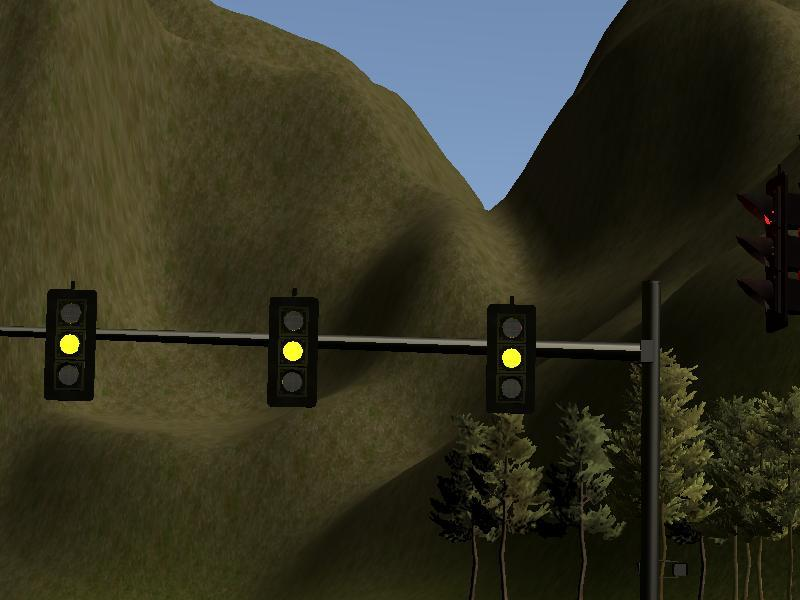Yellow: (267, 297, 319, 406), (44, 289, 94, 399), (487, 305, 537, 412)
